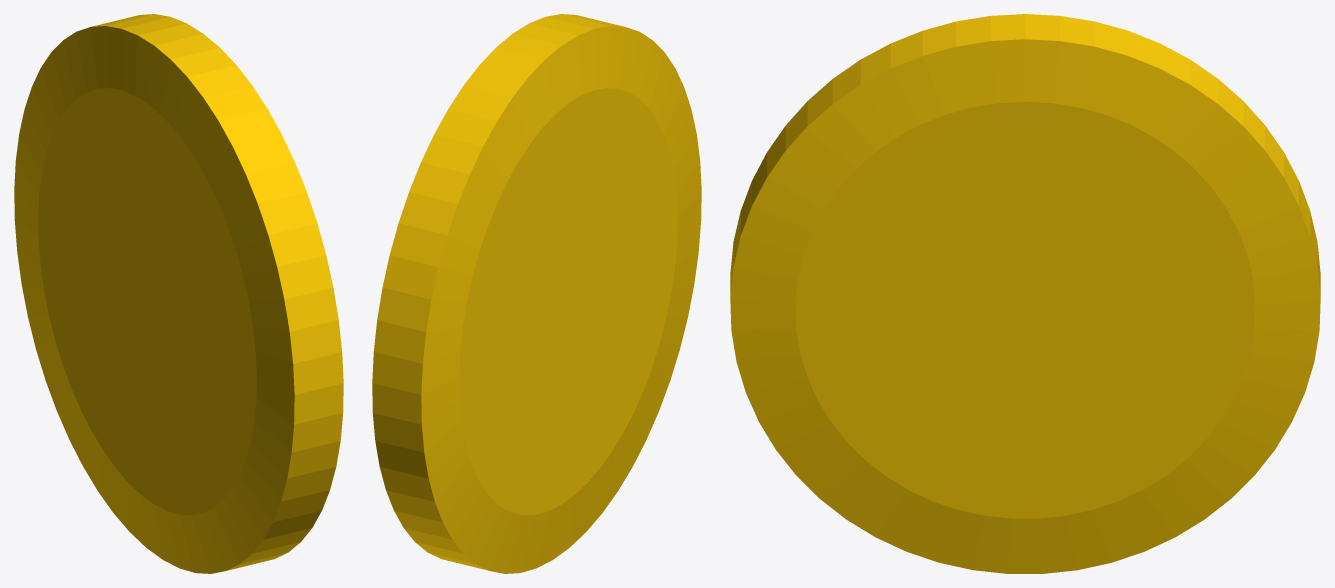
The model's file is Coin9.fbx.
The picture shows the model from 3 angles, left to right: view 1: azimuth 30°, elevation 25°; view 2: azimuth 150°, elevation 25°; view 3: azimuth 270°, elevation 25°; orthographic projection. The views are drawn at different scales.
Visible parts, largest first — view 1: Cylinder; view 2: Cylinder; view 3: Cylinder.
Boxes of the visible parts, box(x1,y1,x2,y2) form: Cylinder: box(14, 14, 343, 573); Cylinder: box(372, 14, 701, 573); Cylinder: box(730, 14, 1320, 573).
Bounding box in the file's own units: 14.64 × 113 × 113.
